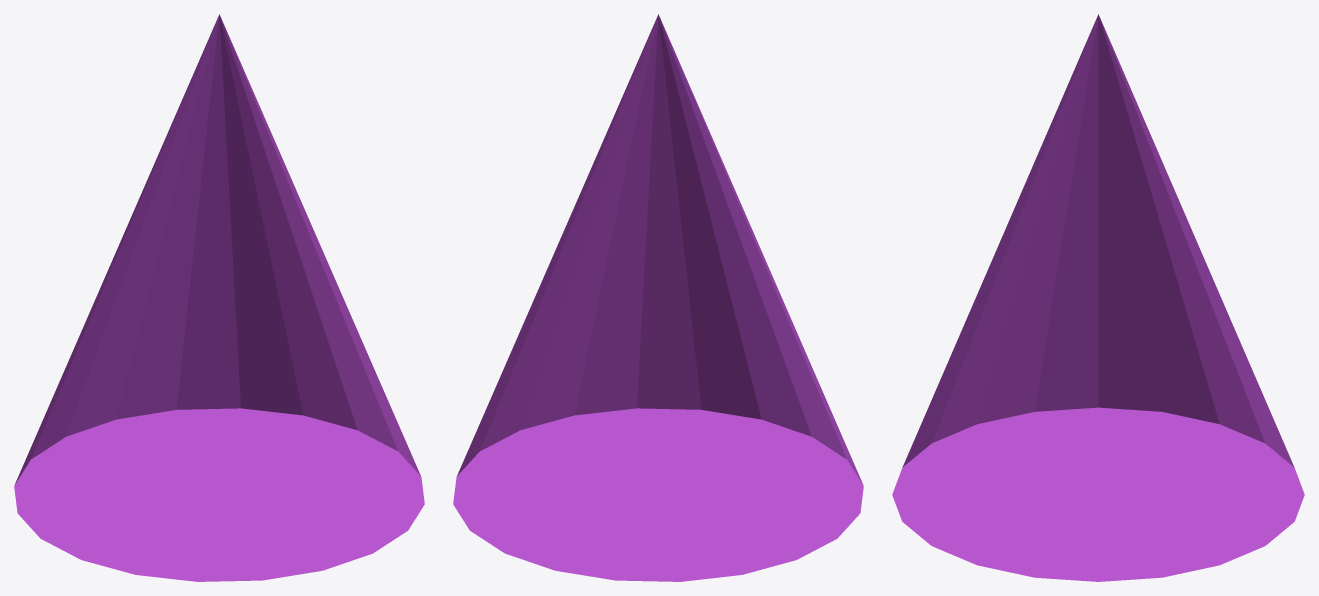
The model's file is character-a-altered.glb.
3 views of the same model, side by side, from view 1: azimuth 30°, elevation 25°; view 2: azimuth 150°, elevation 25°; view 3: azimuth 270°, elevation 25° (orthographic).
Size of the model in its own units: 0.7 by 0.9 by 0.7.
